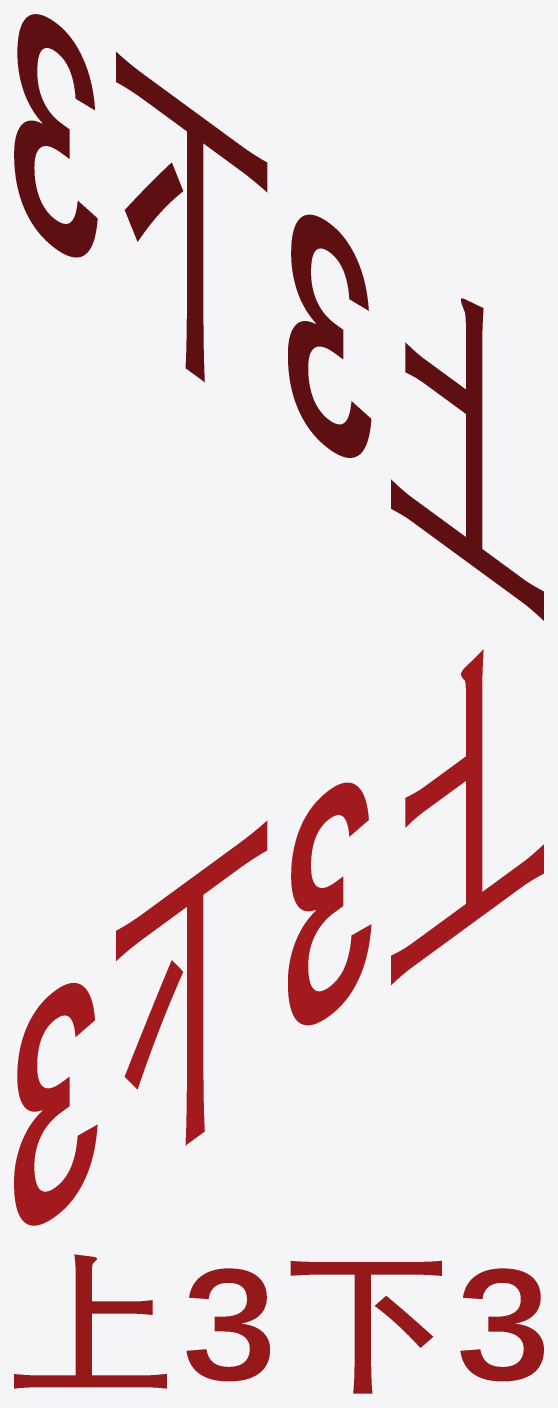
The picture shows the model from 3 angles, top to bottom: view 1: azimuth 30°, elevation 25°; view 2: azimuth 150°, elevation 25°; view 3: azimuth 270°, elevation 25°; orthographic projection. The views are drawn at different scales.
Parts seen in each view (by area): view 1: Text; view 2: Text; view 3: Text.
Boxes of the visible parts, bbox=[...] form: Text: bbox=[14, 14, 543, 620]; Text: bbox=[14, 649, 543, 1225]; Text: bbox=[14, 1254, 543, 1393].
Size of the model in its own units: 0.0565 by 71.64 by 247.
